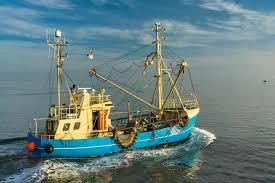fishing boat: (26, 19, 201, 161)
